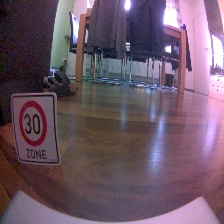dreisiger_zone: (10, 92, 60, 166)
